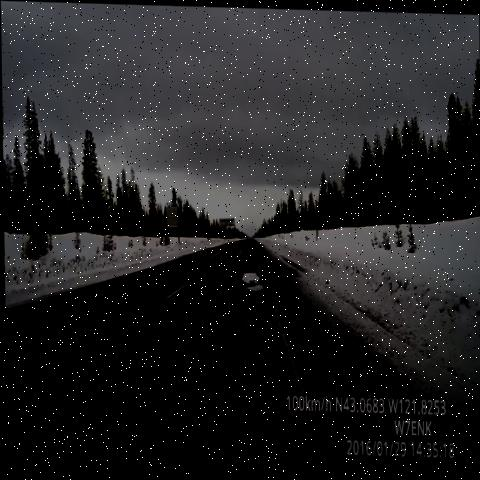pothole: (234, 260, 266, 298), (235, 305, 265, 341), (243, 238, 255, 251)
